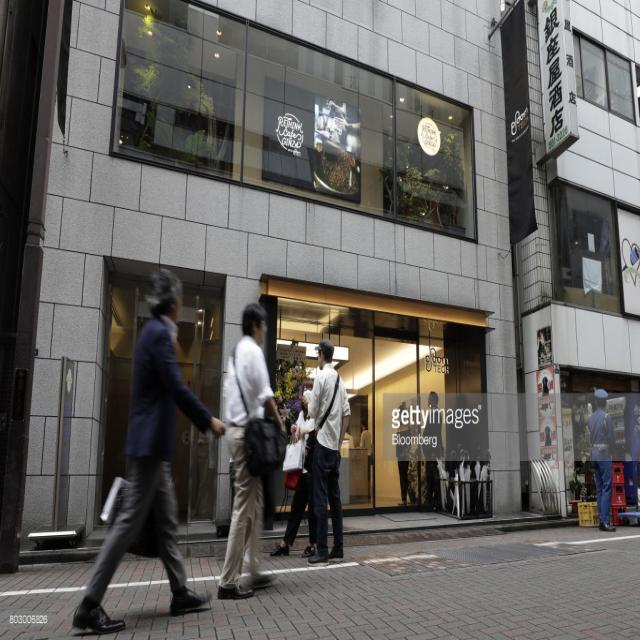body: (69, 264, 228, 639), (215, 299, 291, 602), (299, 336, 353, 567), (269, 378, 317, 560), (586, 386, 618, 533), (313, 93, 362, 161), (421, 390, 445, 513), (392, 397, 415, 507), (359, 417, 373, 504), (340, 423, 356, 458)
